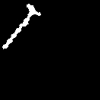half_double_crochet: (3, 4, 40, 48)
